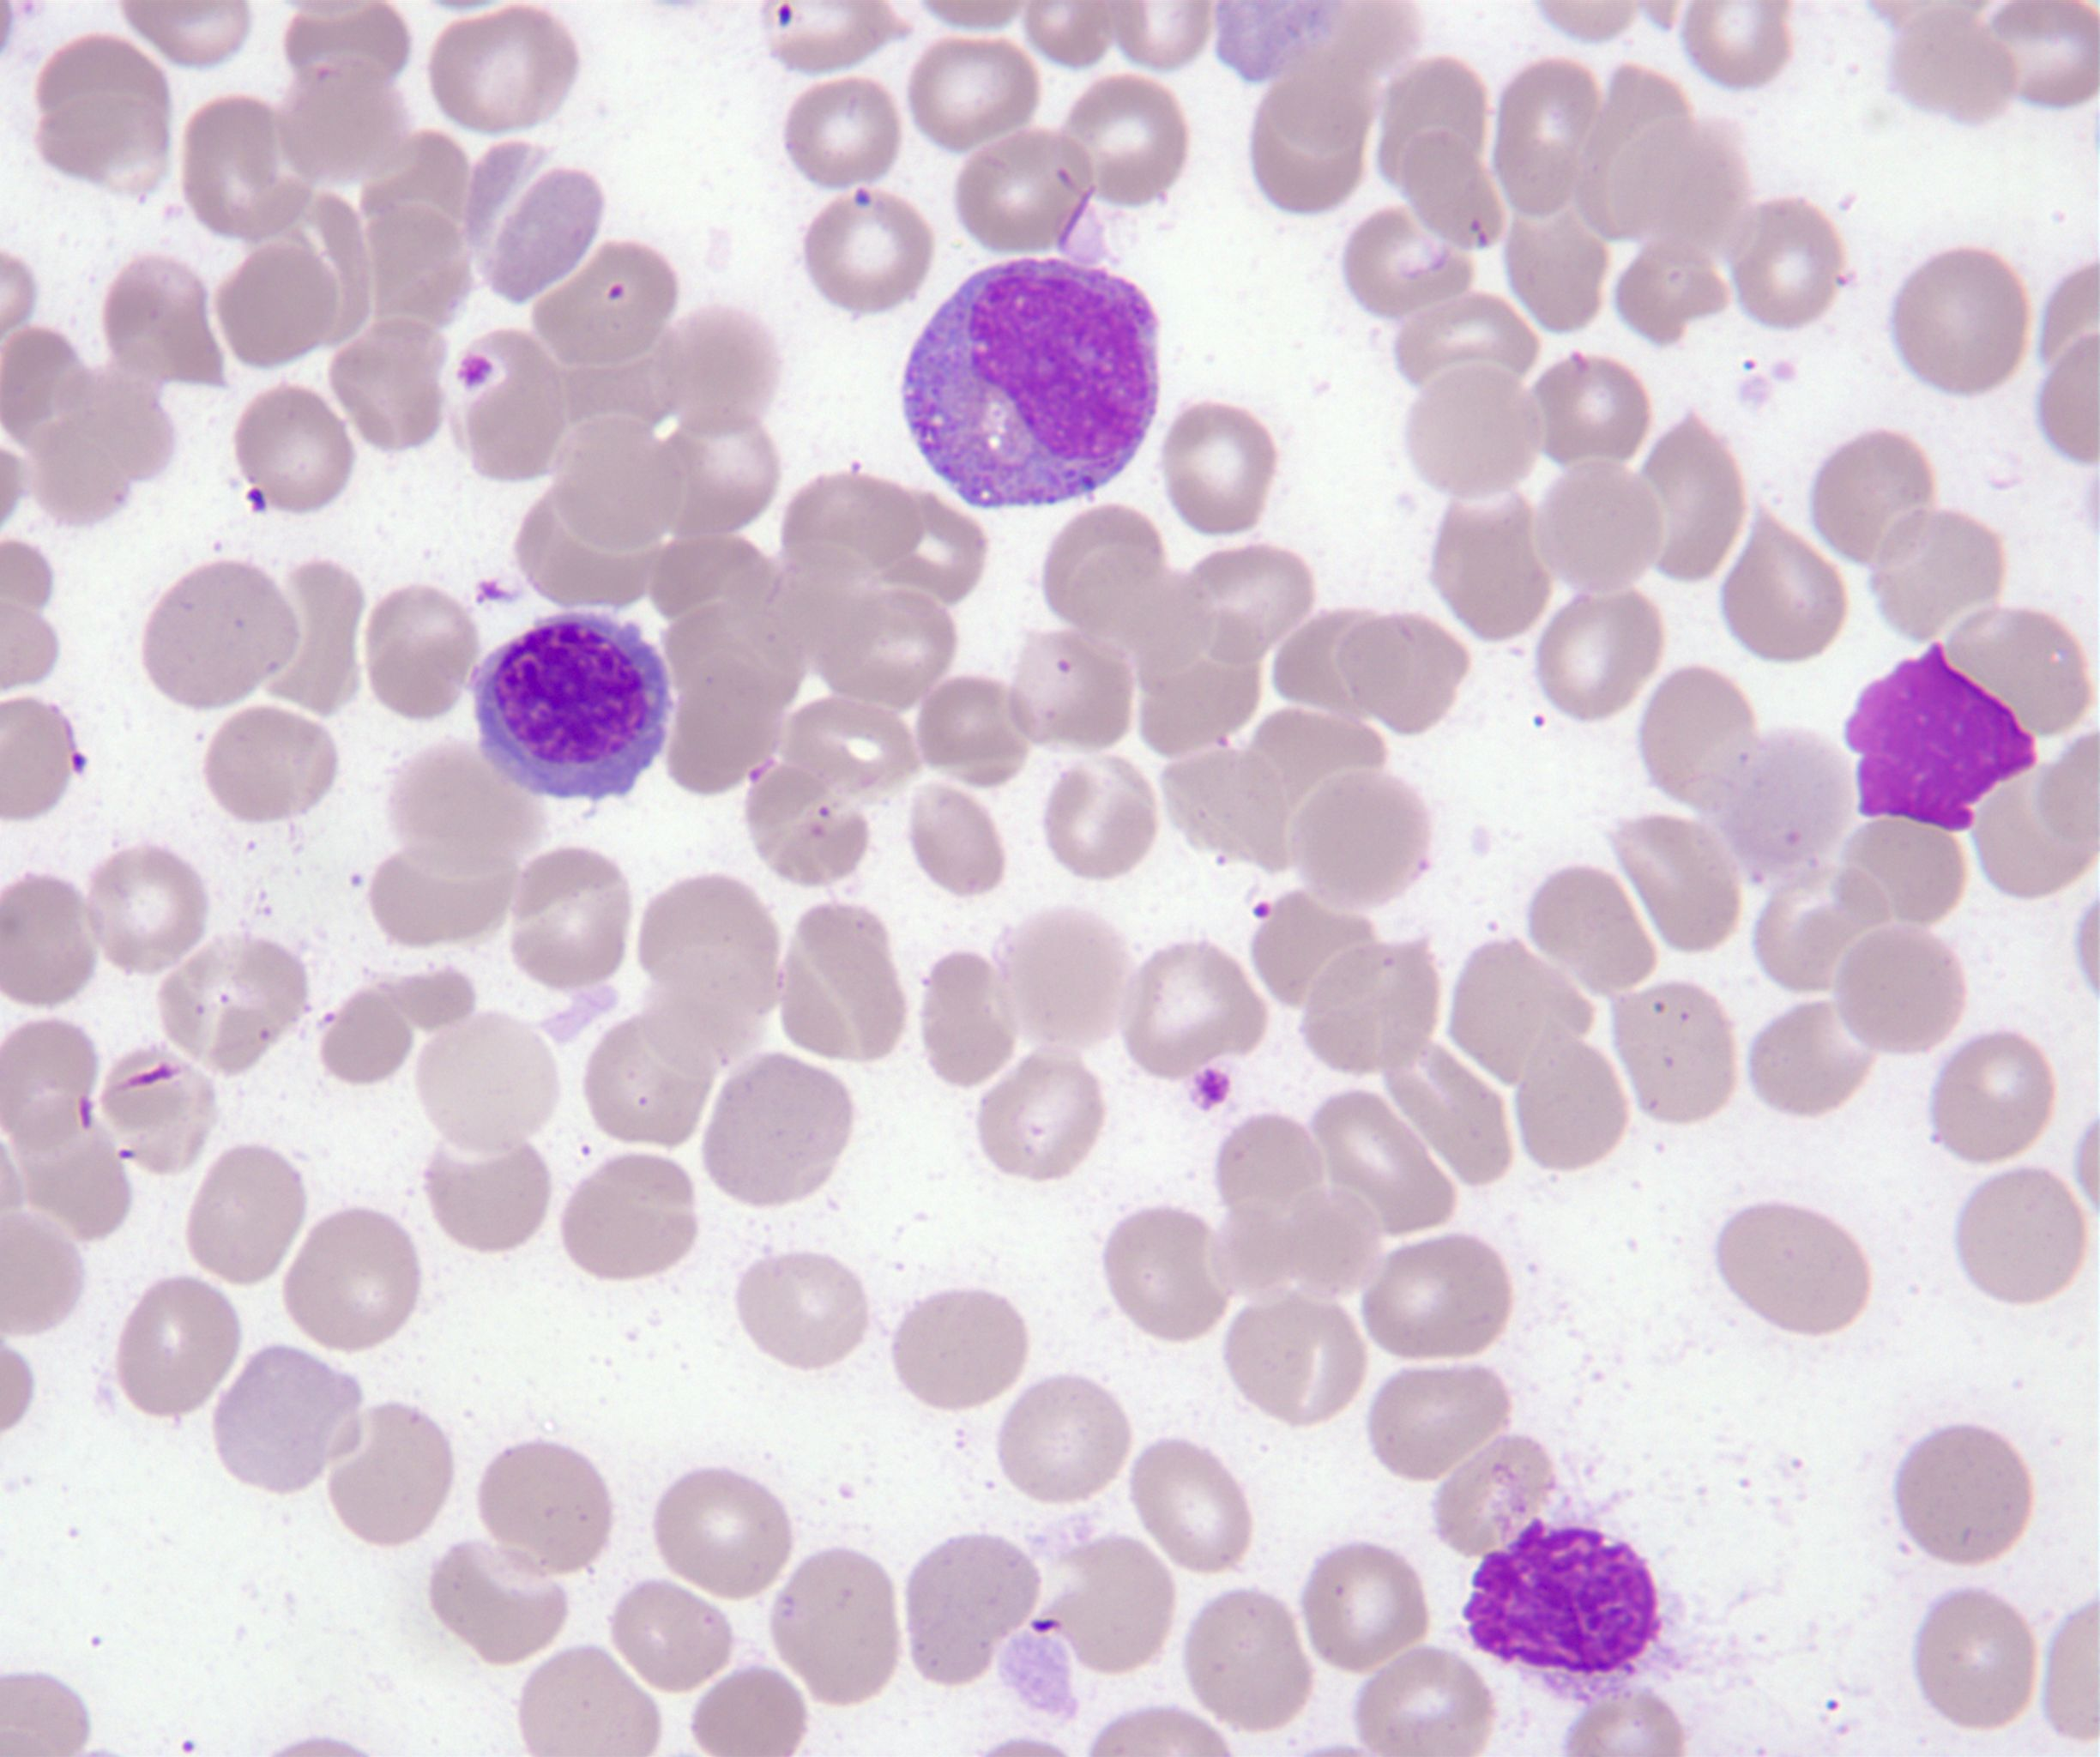23: (471, 614, 670, 797)
3: (903, 258, 1155, 504)
x: (1845, 639, 2039, 829), (1465, 1518, 1662, 1678)
